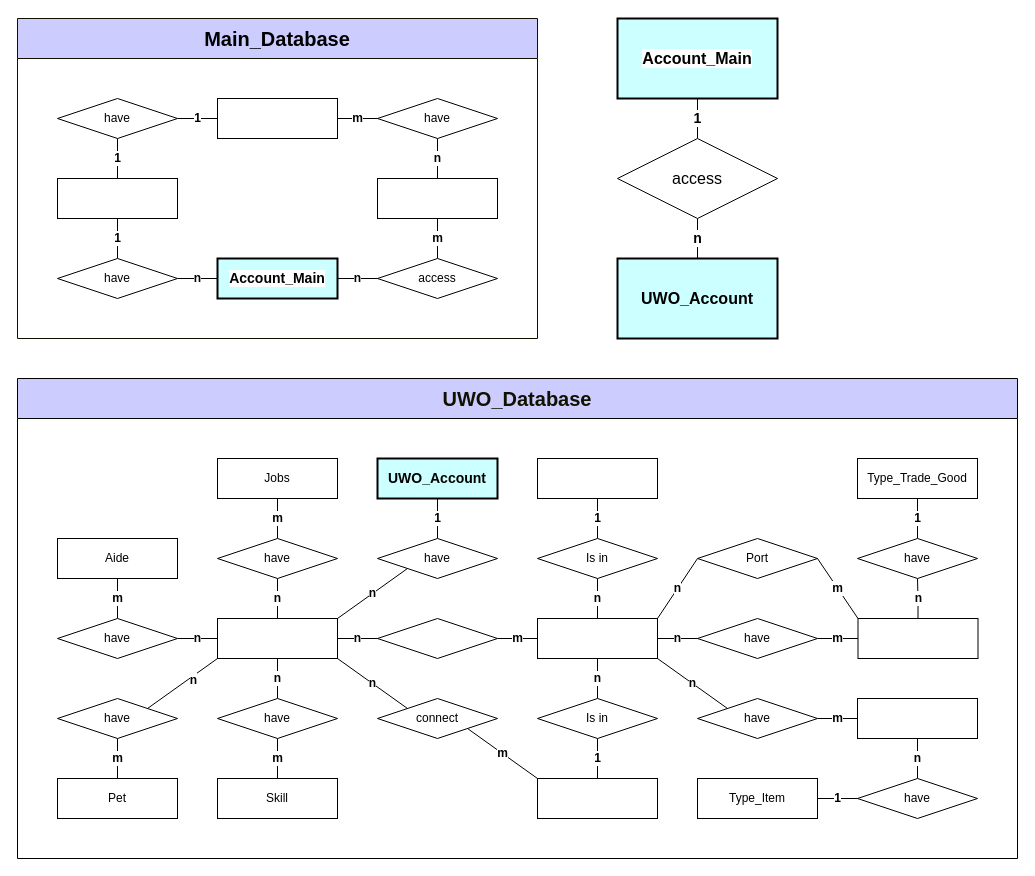
Image size: 1035x876. Some labels were removed from this diagram. Each missing label, with the centre of its shape:
Authorization: point 277,118
Char: point 277,638
City: point 597,638
Country: point 597,798
Dokument: point 437,198
invest: point 437,638
Items: point 917,718
Level_Account: point 117,198
Sea_Region: point 597,478
Trade_Good: point 917,638
